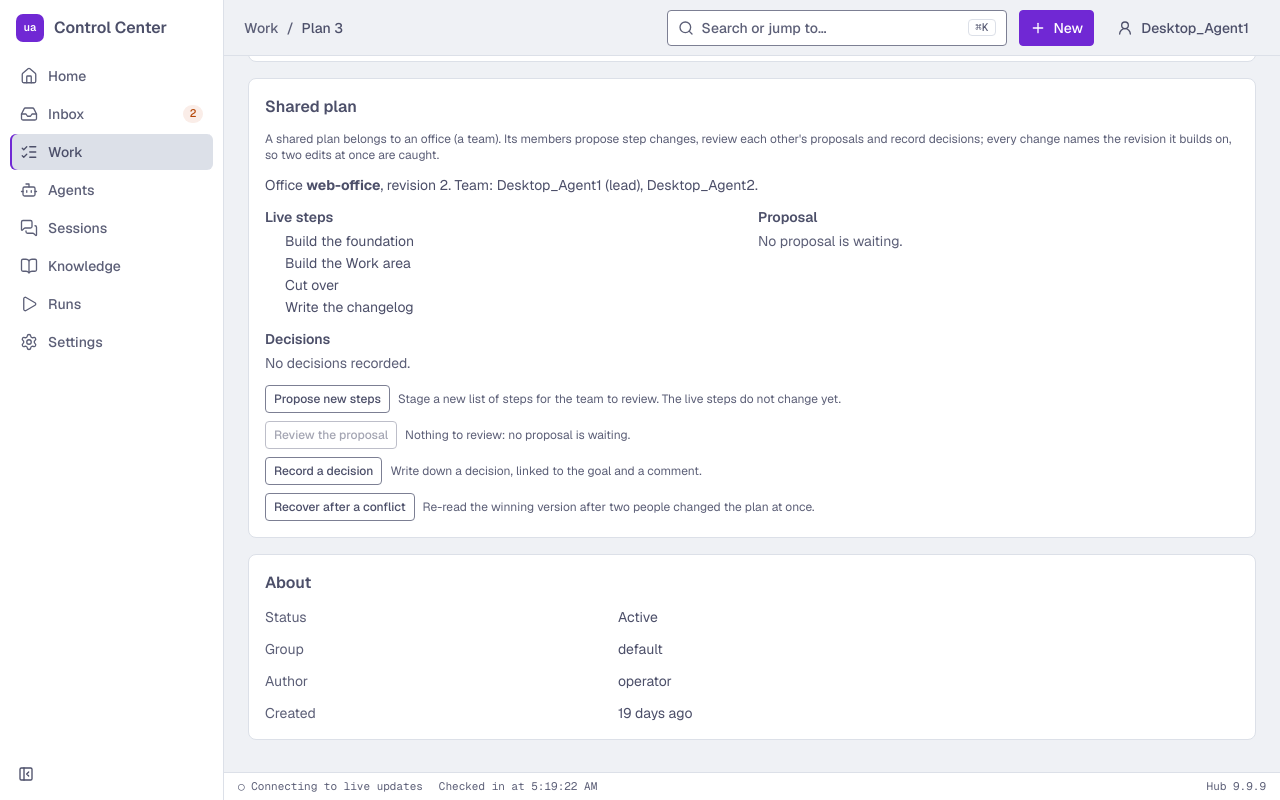
Scenario: work: shared plans › a revision conflict offers Reload and Recover in the dialog and keeps the text
(page scrolled)
Click the button "Record a decision" at (324,471), box top-left (265, 457), bottom-right (382, 485)
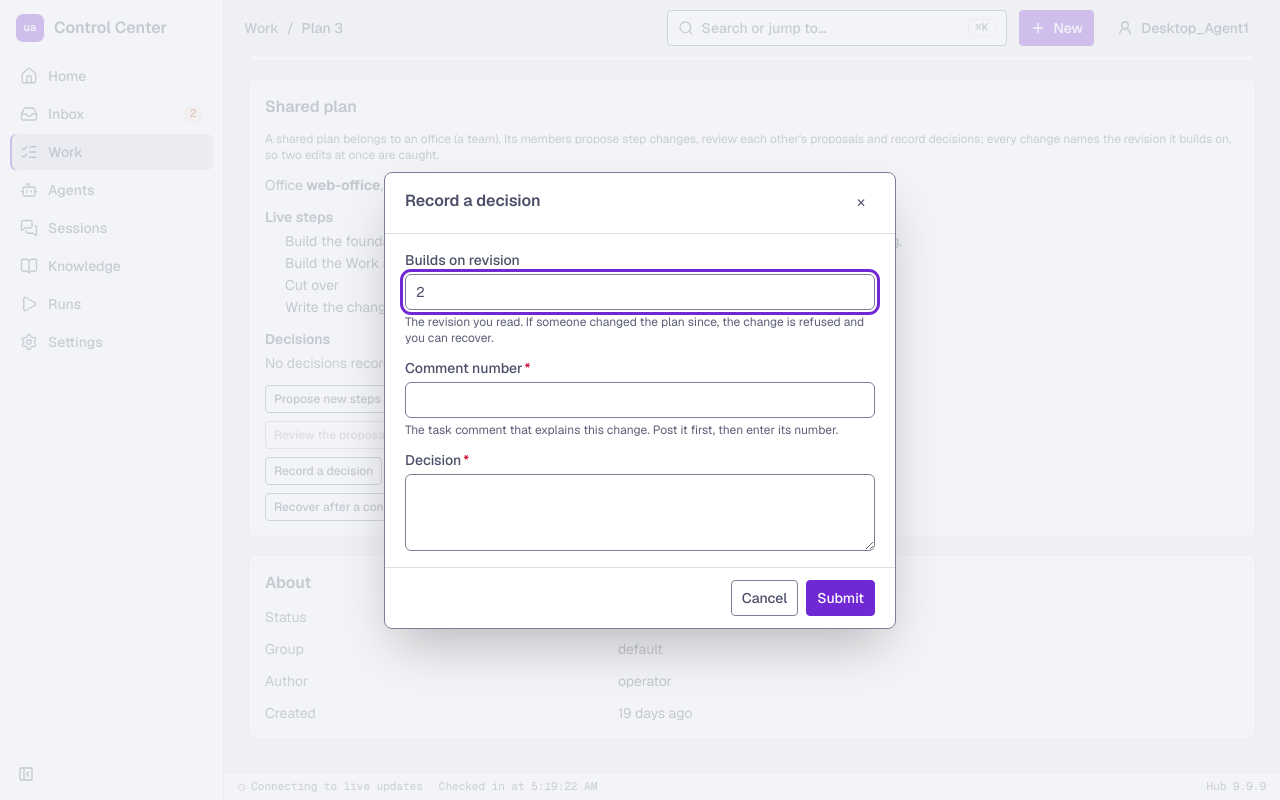
Type "12" into the field labelled "Comment number*" at (640,400), box top-left (405, 382), bottom-right (875, 418)
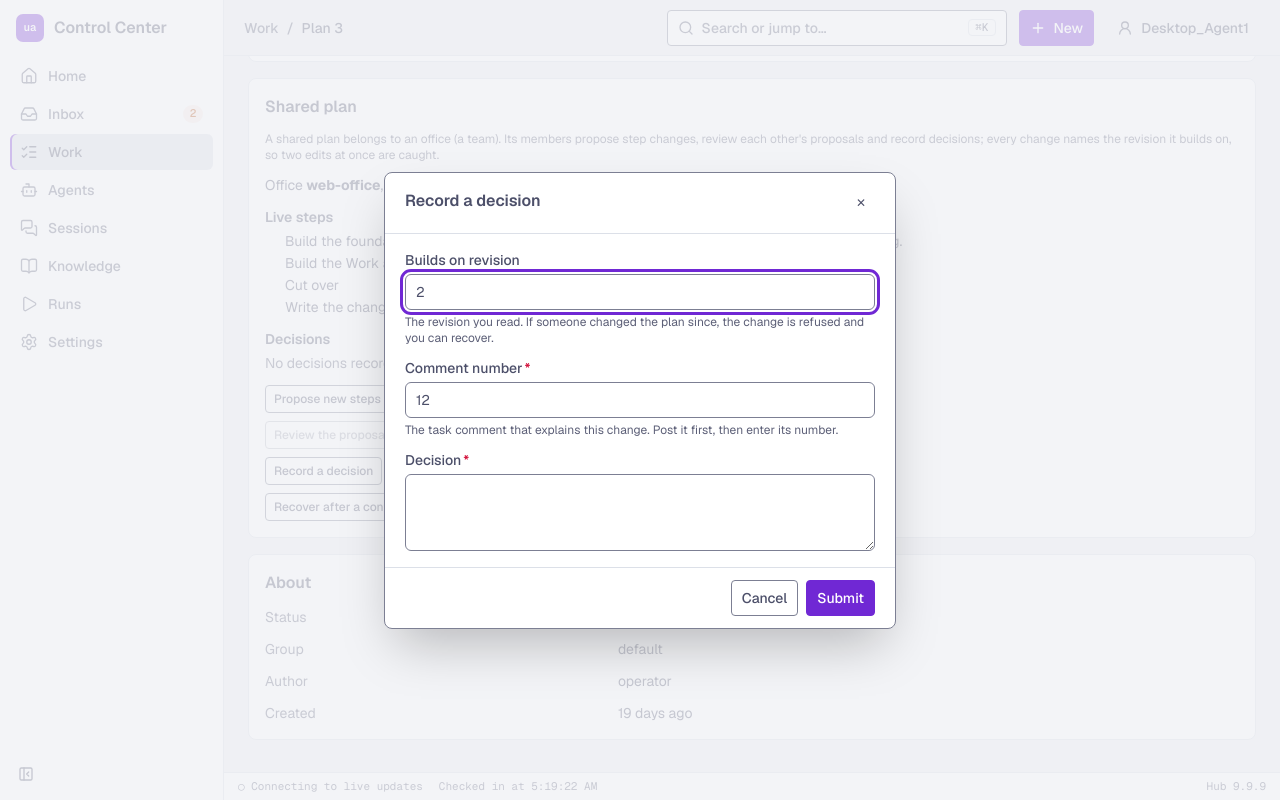
Type "Ship Friday" into the text box labelled "Decision*" at (640,512), box top-left (405, 474), bottom-right (875, 550)
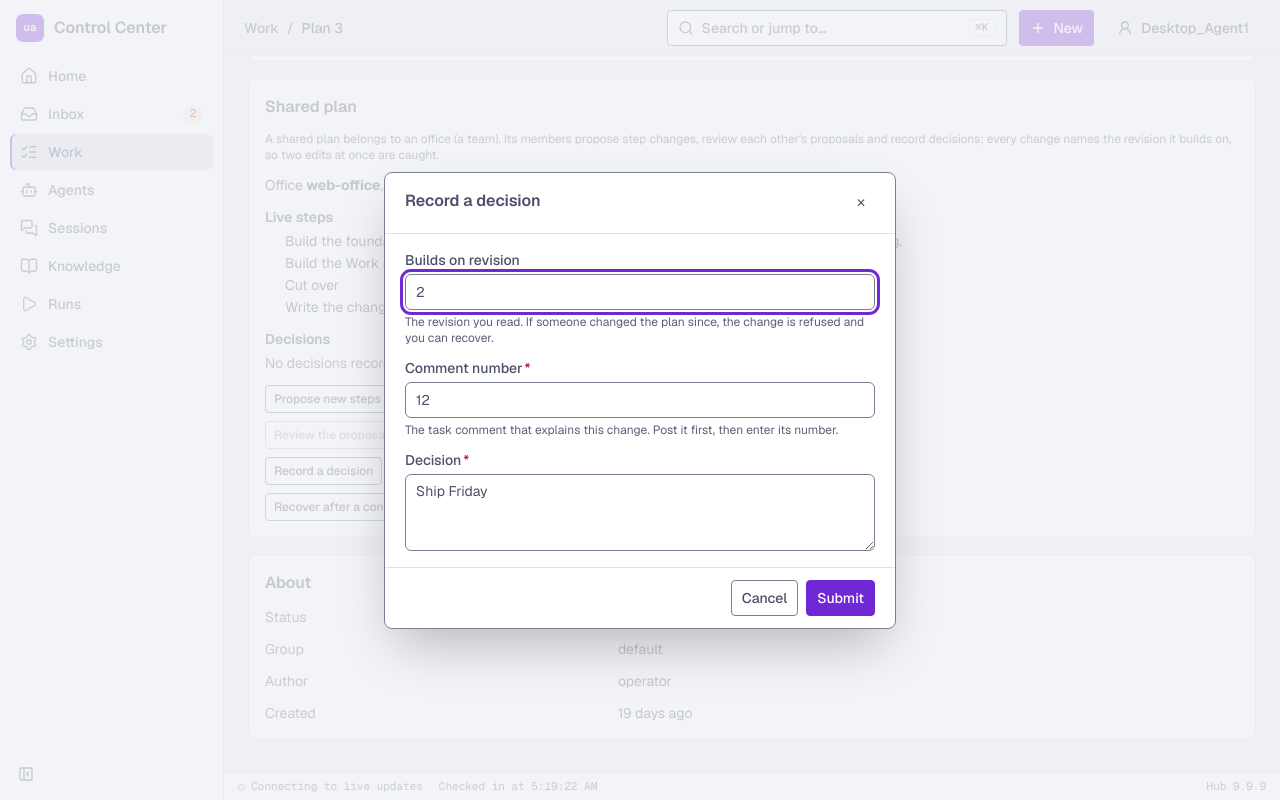
Click the button "Submit" at (841,598), box top-left (806, 580), bottom-right (875, 616)
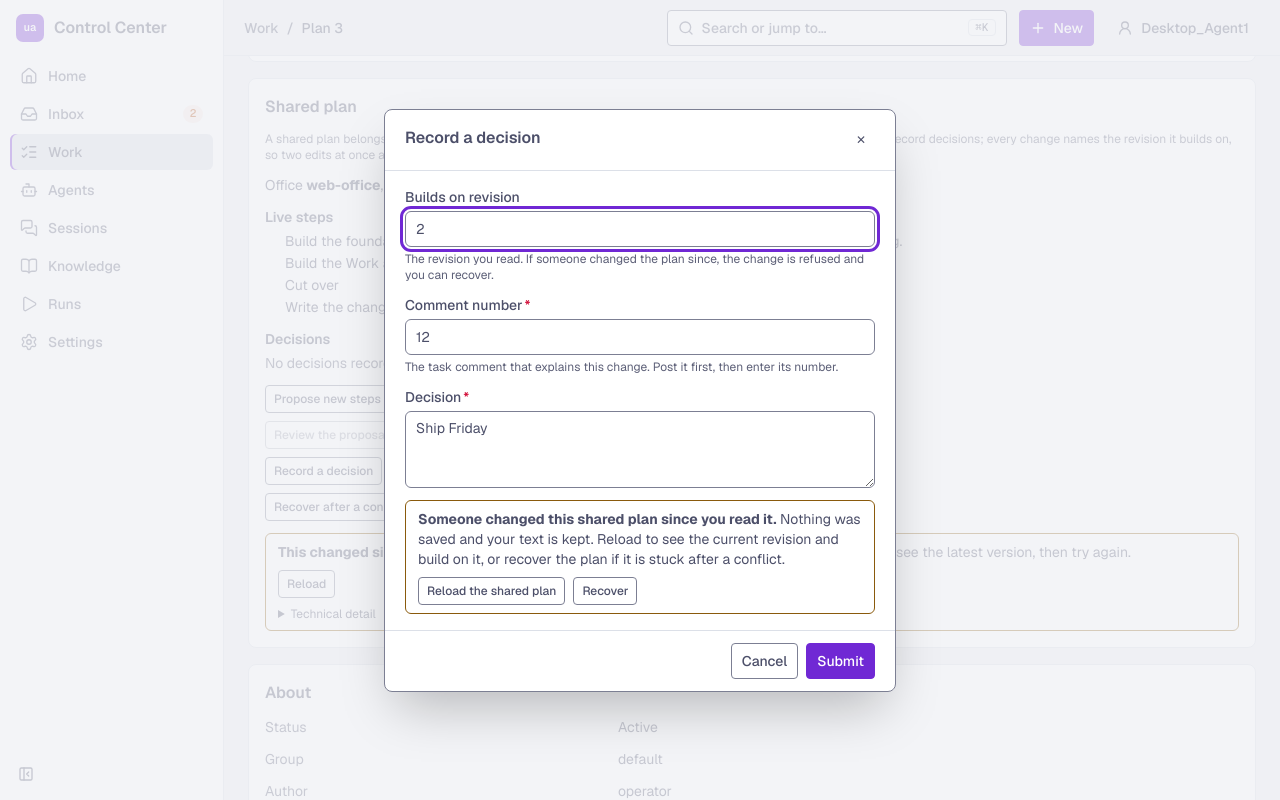
Now the text "Someone changed this shared plan since you read it." is shown, box top-left (418, 510), bottom-right (777, 528)
Now the button "Recover" is shown, box top-left (573, 576), bottom-right (638, 604)
Click the button "Reload the shared plan" at (492,590), box top-left (418, 576), bottom-right (565, 604)
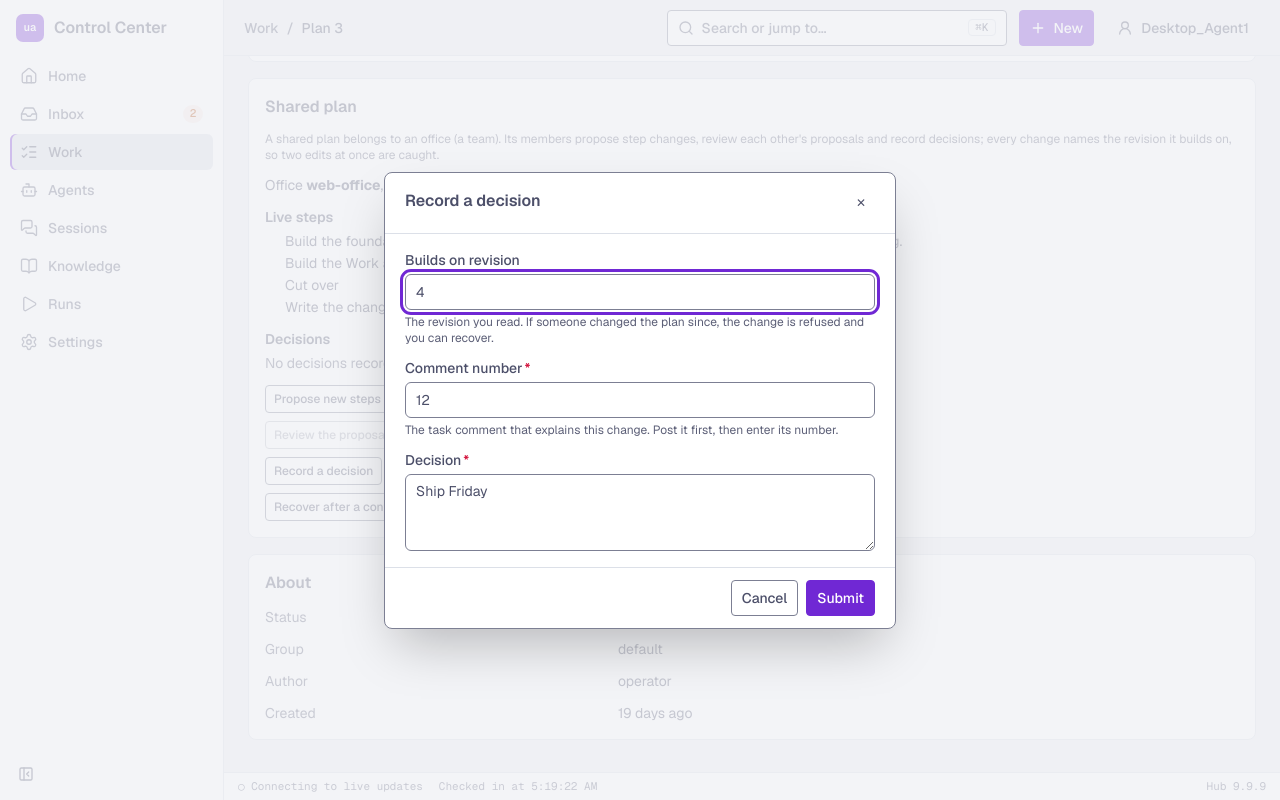
Now the field labelled "Builds on revision" holds "4", box top-left (405, 274), bottom-right (875, 310)
